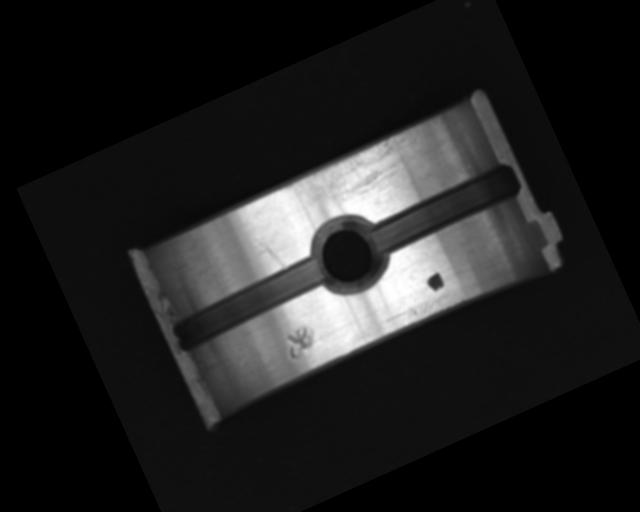blot: (424, 270, 446, 293)
bruise: (280, 323, 320, 360)
gap: (166, 251, 334, 357), (366, 160, 524, 258)
hole: (299, 206, 396, 304)
nick: (249, 223, 289, 276)
scratch: (280, 123, 435, 229)
